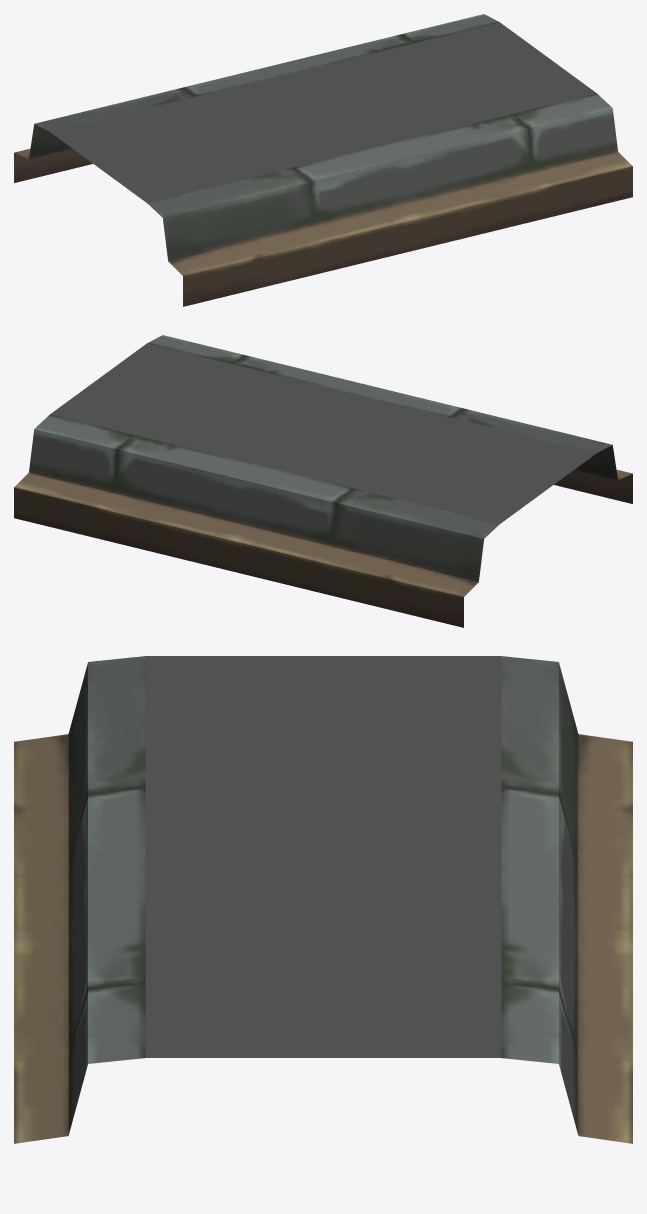
File: yw_shanlin_parapet_004.FBX
3 views of the same model, one above another, from view 1: azimuth 30°, elevation 25°; view 2: azimuth 150°, elevation 25°; view 3: azimuth 270°, elevation 25° (orthographic). The views are drawn at different scales.
Visible parts, largest first — view 1: yw_shanlin_parapet_004; view 2: yw_shanlin_parapet_004; view 3: yw_shanlin_parapet_004.
Part boxes in pixels (x1,y1,x2,y2): yw_shanlin_parapet_004: (14, 14, 632, 306); yw_shanlin_parapet_004: (14, 335, 632, 627); yw_shanlin_parapet_004: (14, 656, 632, 1143).
Bounding box in the file's own units: 244 × 159 × 40.17.
